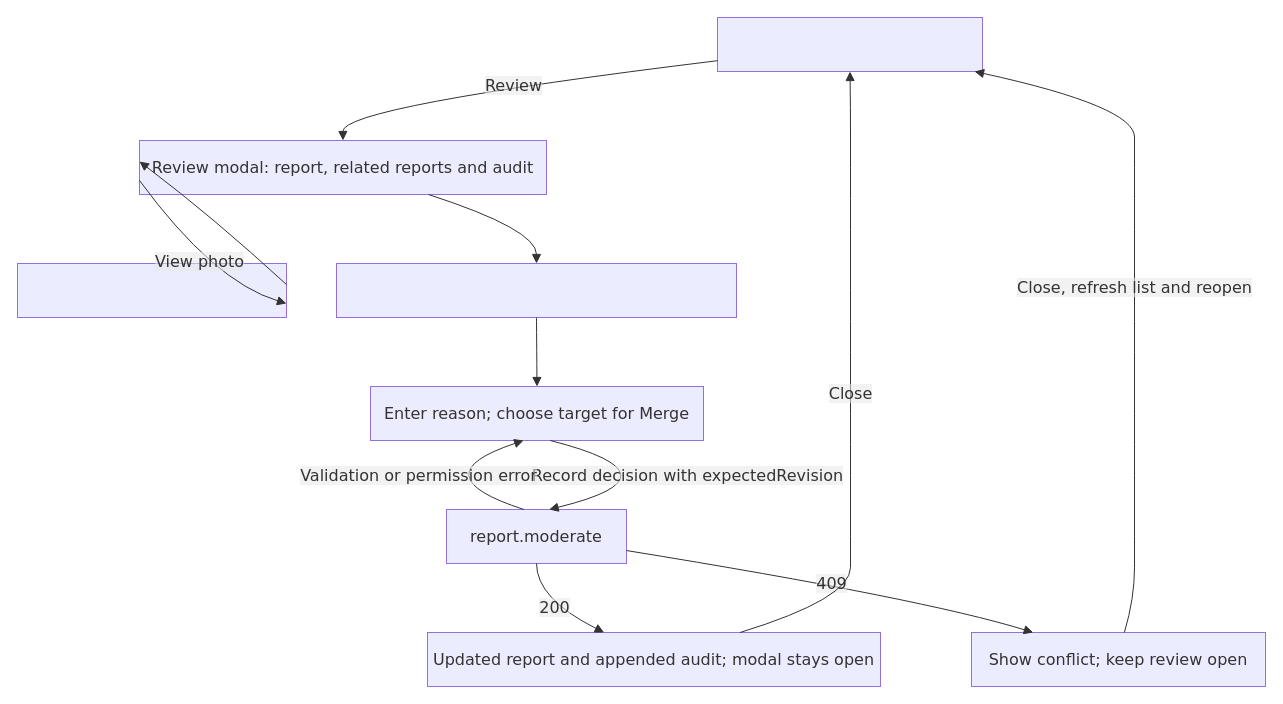
The diagram is 1283 pixels wide and 704 high, and some of its shapes have lost their labels. Each missing label, with the box of its shape:
Authorized signed image URL: (16, 262, 286, 318)
Choose Verify, Reject, Merge, Resolve or Expire: (336, 262, 736, 318)
D-06: filter / refresh reports: (716, 16, 982, 72)
